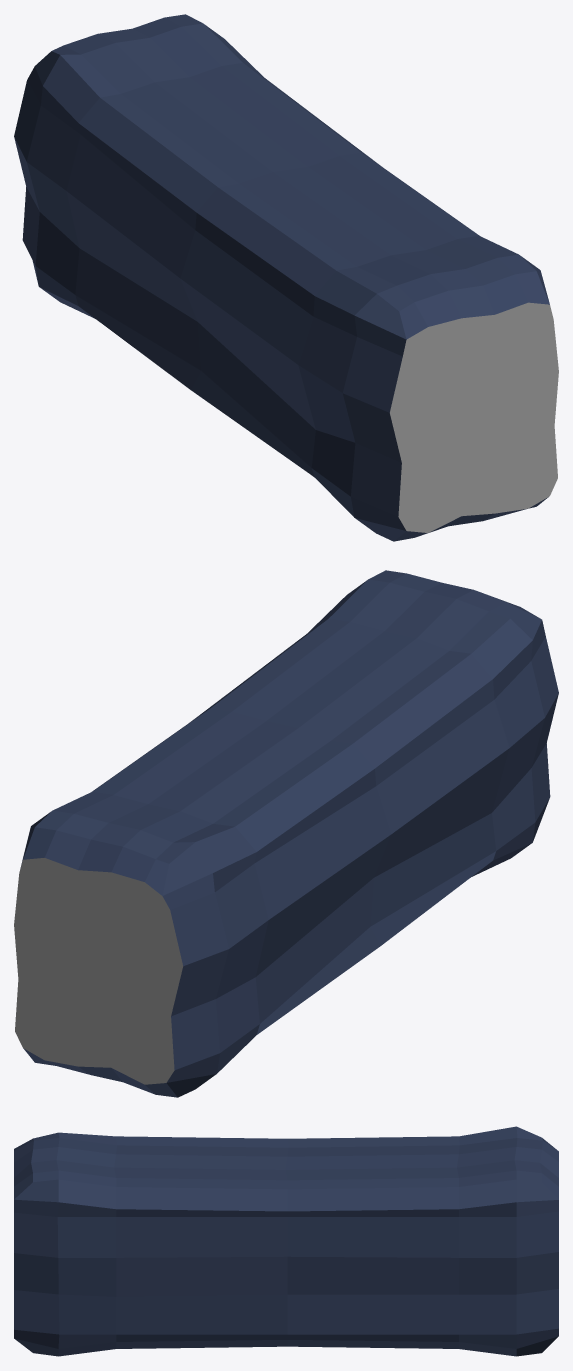
The model's file is Floor_Corners.fbx.
3 renders of one model, top to bottom at view 1: azimuth 30°, elevation 25°; view 2: azimuth 150°, elevation 25°; view 3: azimuth 270°, elevation 25°, orthographic. The views are drawn at different scales.
Visible parts, largest first — view 1: Floor_Corners_GEO; view 2: Floor_Corners_GEO; view 3: Floor_Corners_GEO.
Part boxes in pixels (x1,y1,x2,y2): Floor_Corners_GEO: (14,14,558,541); Floor_Corners_GEO: (14,570,558,1097); Floor_Corners_GEO: (14,1126,558,1356).
Bounding box in the file's own units: 291 × 333 × 910.
